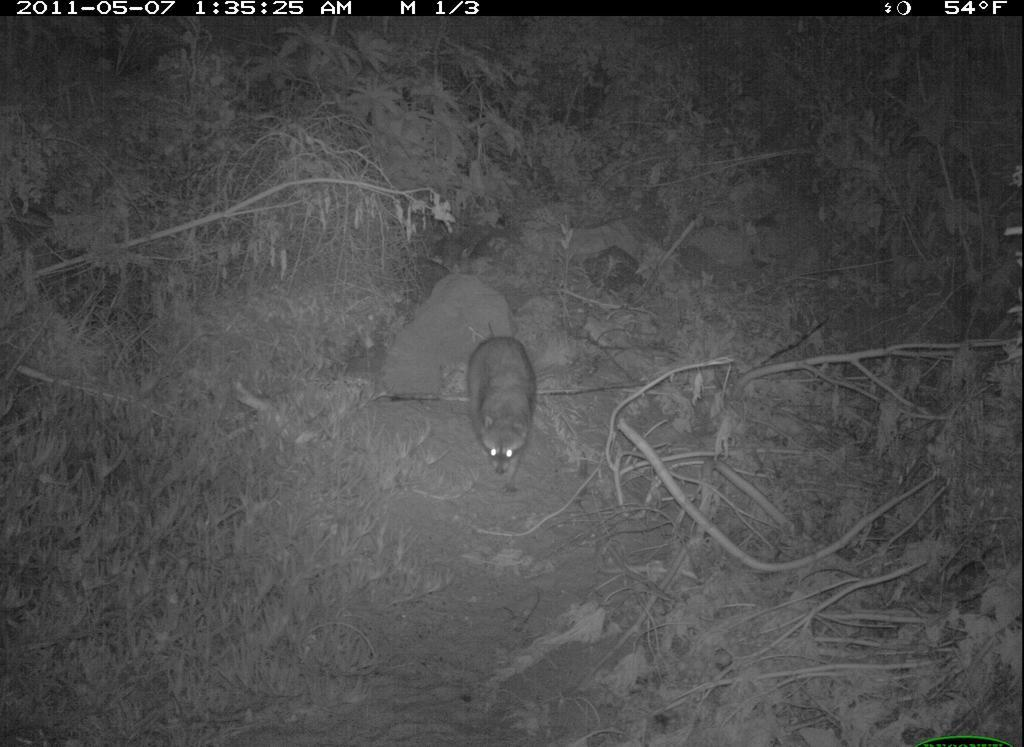raccoon: (455, 314, 552, 498)
